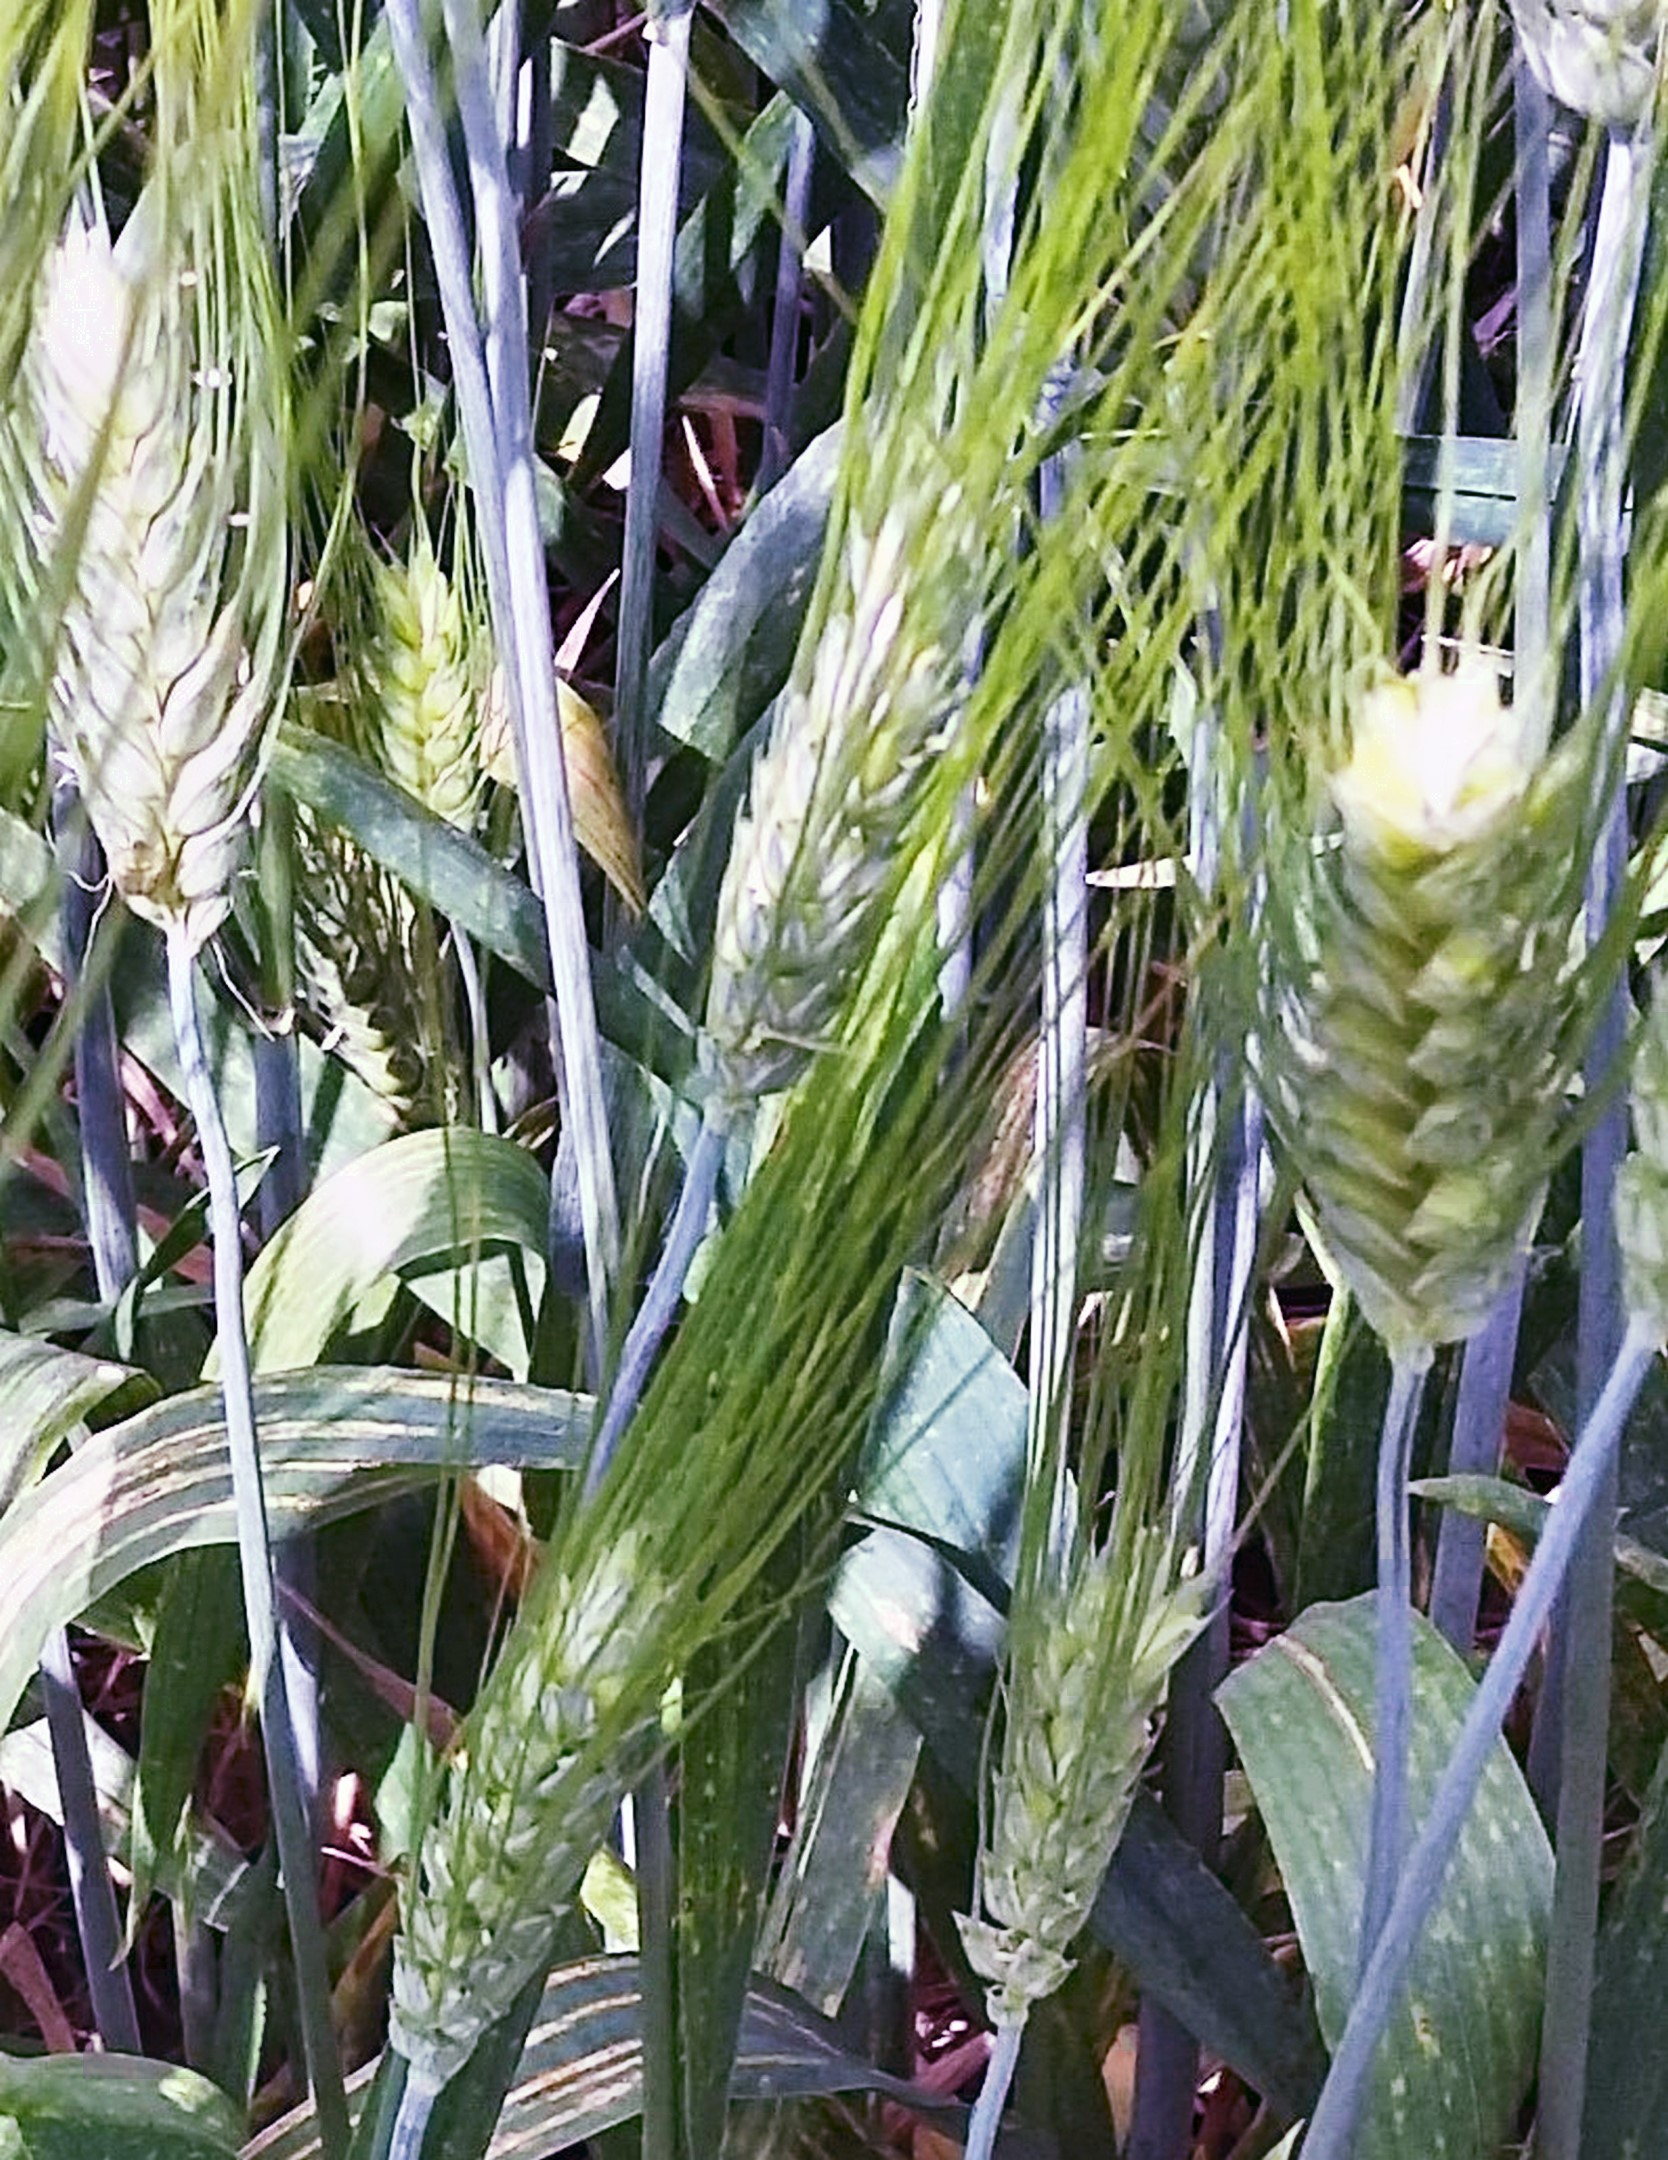Healthy Wheat: (14, 196, 307, 990), (371, 1487, 711, 2034)
